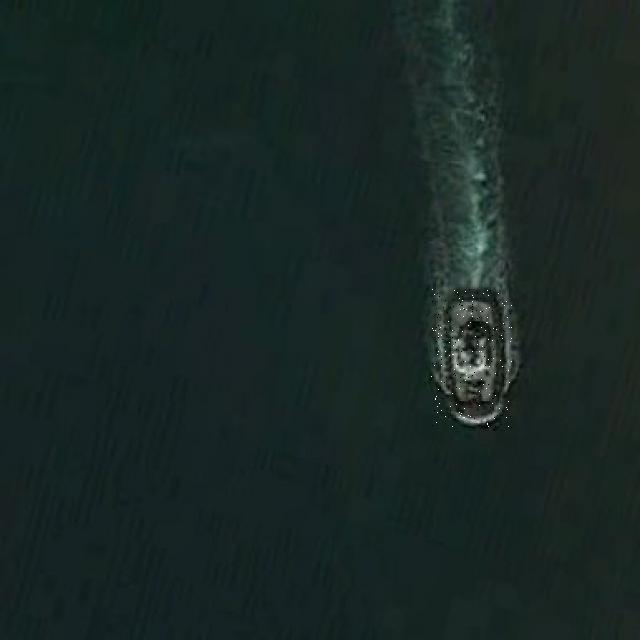boat: (431, 289, 512, 428)
